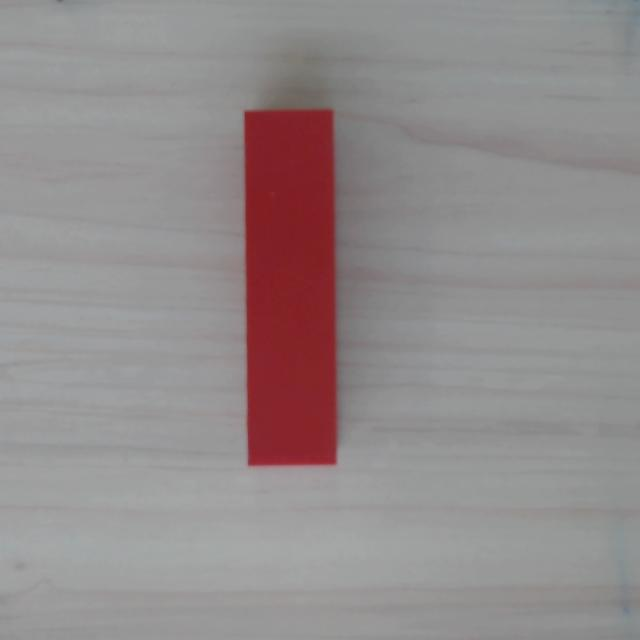Balok-Merah-1002525: (244, 109, 336, 466)
